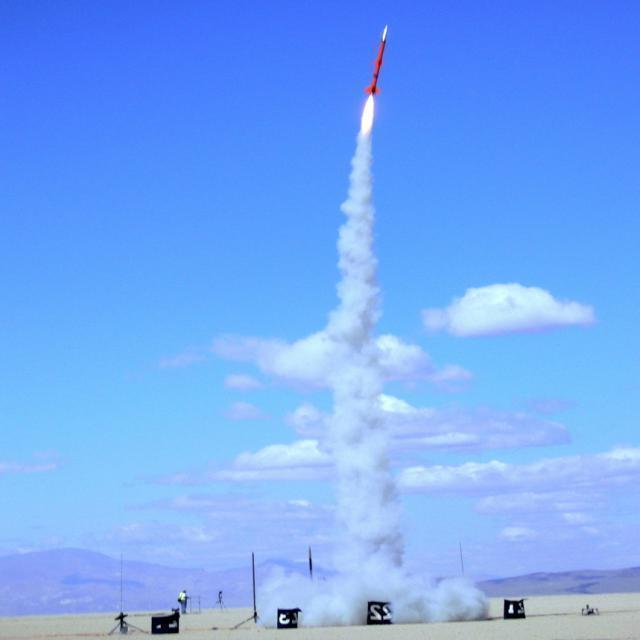missile: (360, 22, 397, 102)
